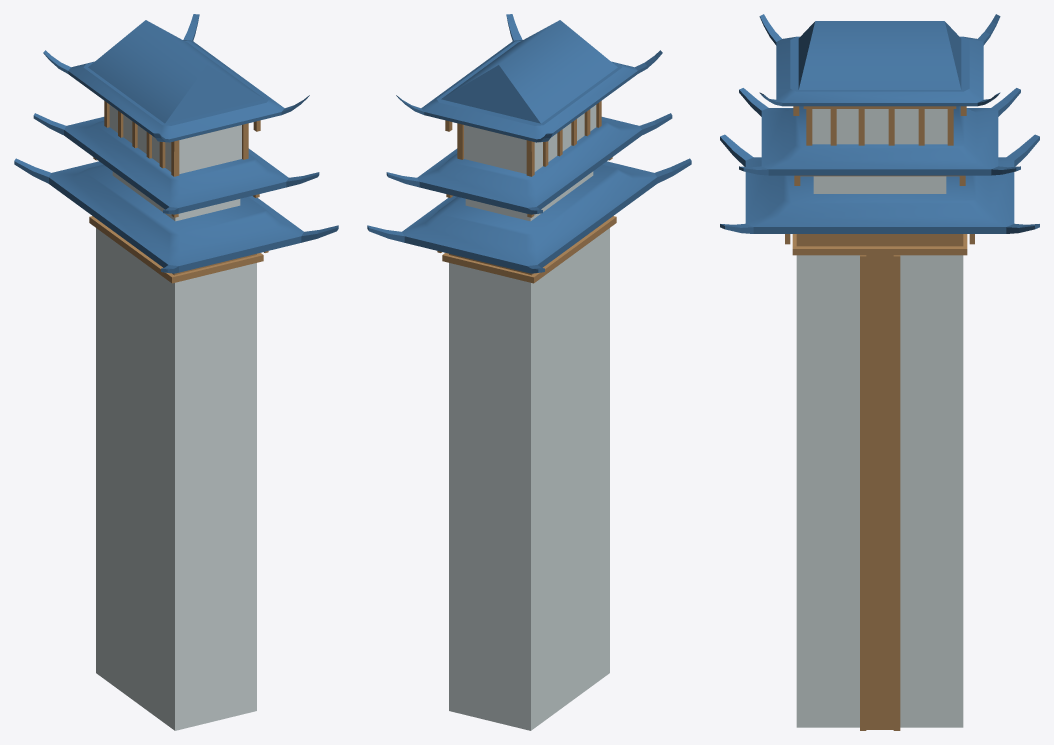
Rendered from visitinghouse2.FBX.
3 renders of one model, left to right at view 1: azimuth 30°, elevation 25°; view 2: azimuth 150°, elevation 25°; view 3: azimuth 270°, elevation 25°, orthographic. The views are drawn at different scales.
Visible parts, largest first — view 1: Box005, Box079, Group006, Box080, Box081, Box042, Group007, Box039, Shape036; view 2: Box005, Box079, Group006, Box080, Box081, Box042, Group007, Box039, Shape036; view 3: Box005, Group007, Box079, Box080, Group006, Shape035, Box081, Box042, Box039, Box036.
Part boxes in pixels (x1,y1,x2,y2): Box005: [96, 228, 256, 730]; Box079: [14, 158, 338, 273]; Group006: [88, 20, 264, 123]; Box080: [33, 113, 319, 214]; Box081: [43, 14, 309, 142]; Box042: [109, 105, 241, 173]; Group007: [89, 111, 263, 283]; Box039: [112, 171, 240, 221]; Shape036: [104, 101, 248, 176]; Box005: [449, 228, 609, 730]; Box079: [367, 158, 691, 273]; Group006: [441, 20, 617, 123]; Box080: [386, 113, 672, 214]; Box081: [396, 14, 662, 142]; Box042: [464, 105, 596, 173]; Group007: [442, 109, 616, 283]; Box039: [465, 171, 593, 221]; Shape036: [457, 101, 601, 176]; Box005: [796, 255, 963, 727]; Group007: [792, 109, 967, 729]; Box079: [720, 134, 1039, 233]; Box080: [739, 88, 1020, 175]; Group006: [798, 21, 961, 89]; Shape035: [860, 255, 900, 730]; Box081: [759, 14, 1000, 106]; Box042: [812, 109, 947, 144]; Box039: [813, 176, 946, 193]; Box036: [796, 234, 963, 246].
Bounding box in the file's own units: 51.12 × 179 × 75.55.
